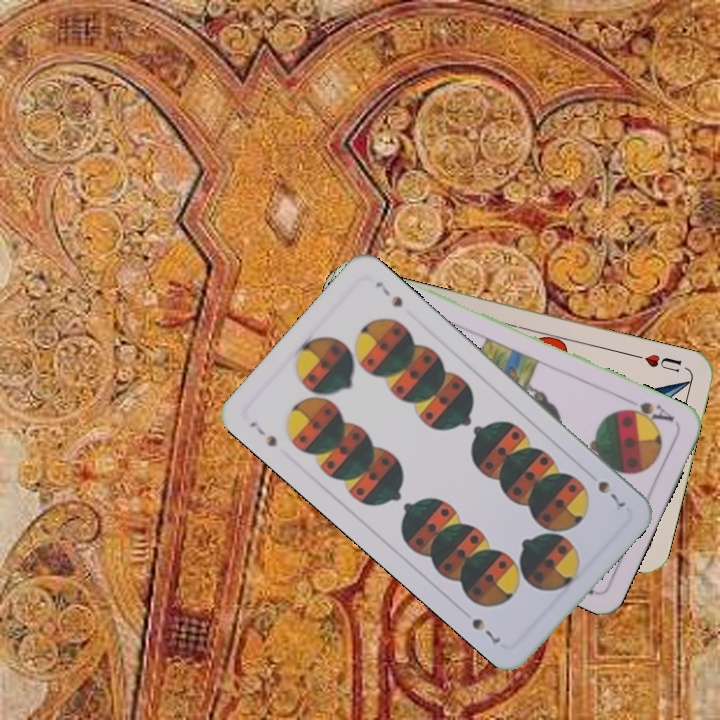HU: (630, 350, 684, 375)
S7: (593, 477, 629, 514), (245, 417, 280, 450)
SA: (618, 398, 677, 428)
